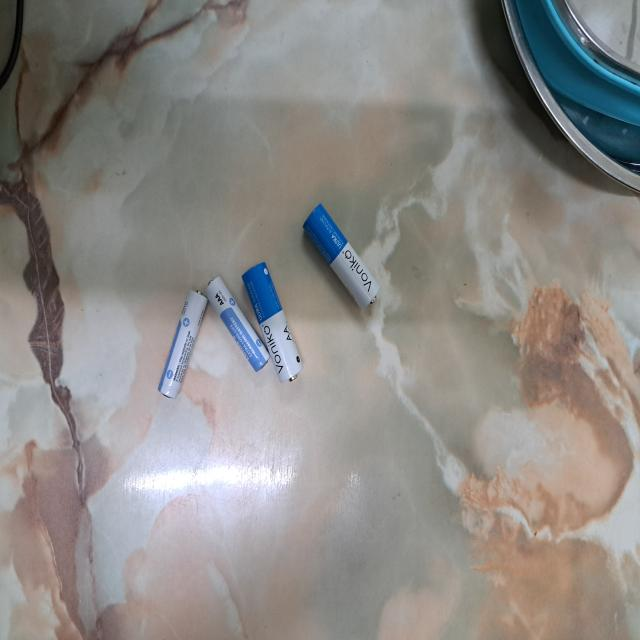battery: (304, 203, 380, 311), (243, 262, 304, 384), (207, 276, 270, 374), (158, 288, 208, 398)
